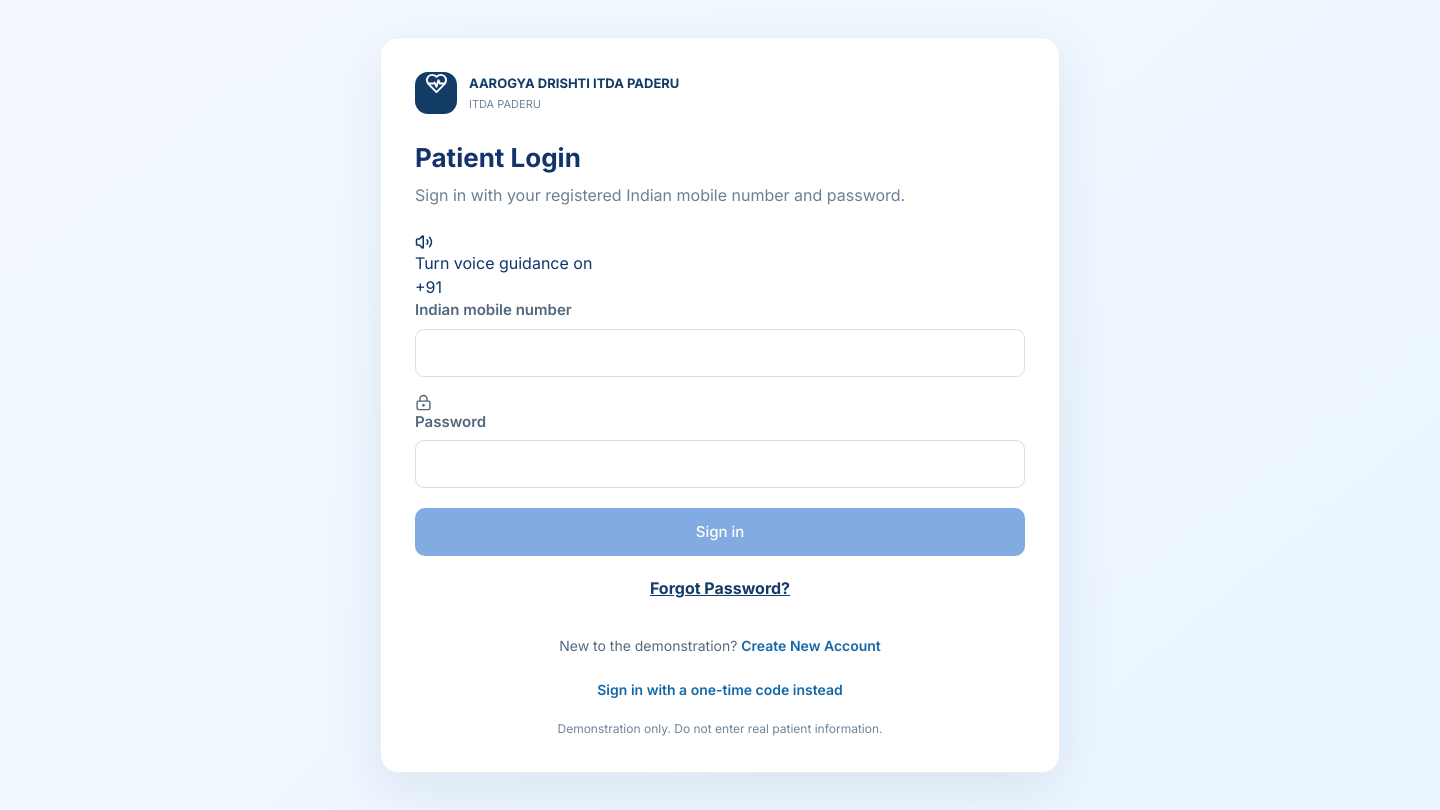
Scenario: patient password login › displays and copies the backend-generated demo code for password recovery
Click the button "Forgot Password?": point(720, 588) [638,564,802,612]
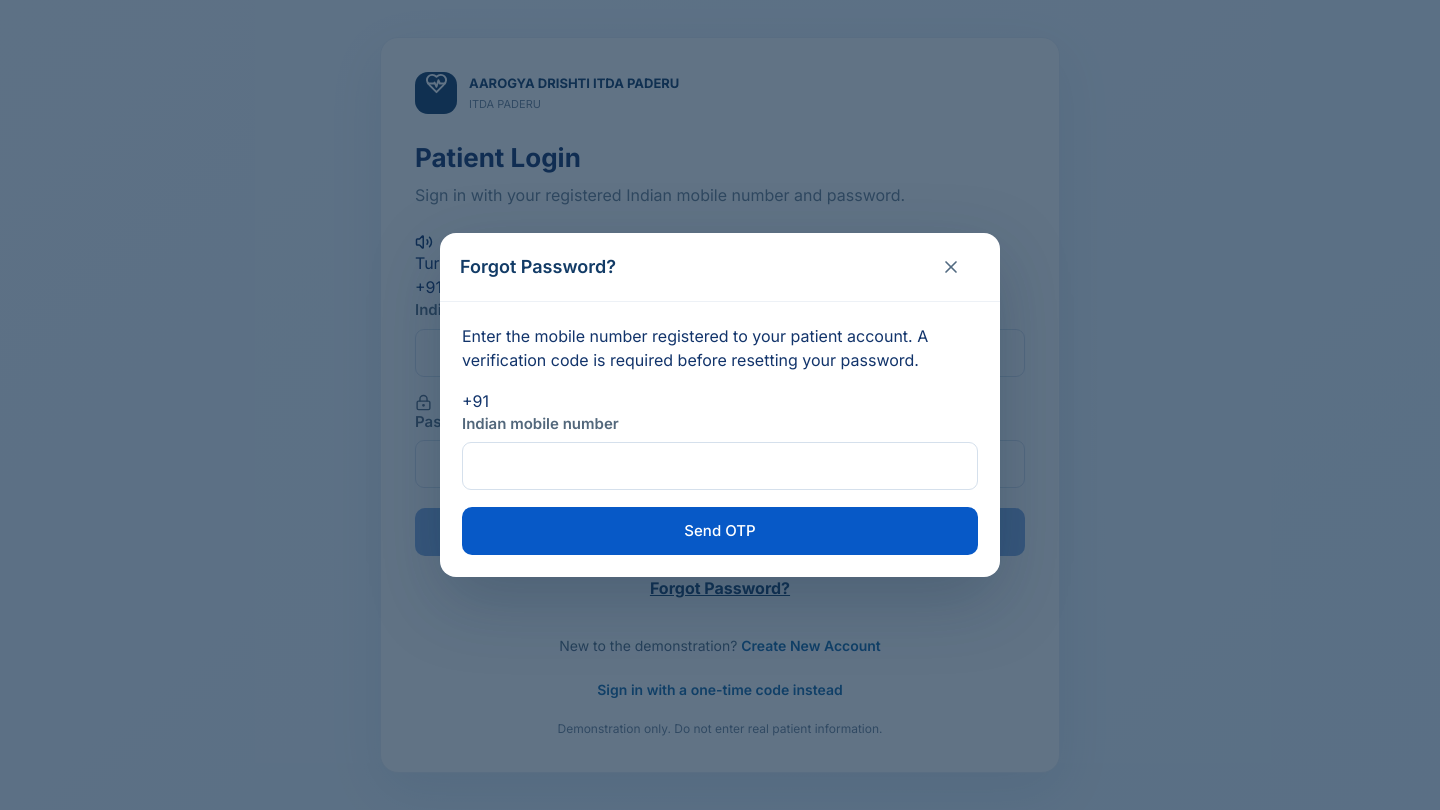
In the field labelled "Indian mobile number": point(720, 466) [462,442,978,490], type "9876543210"
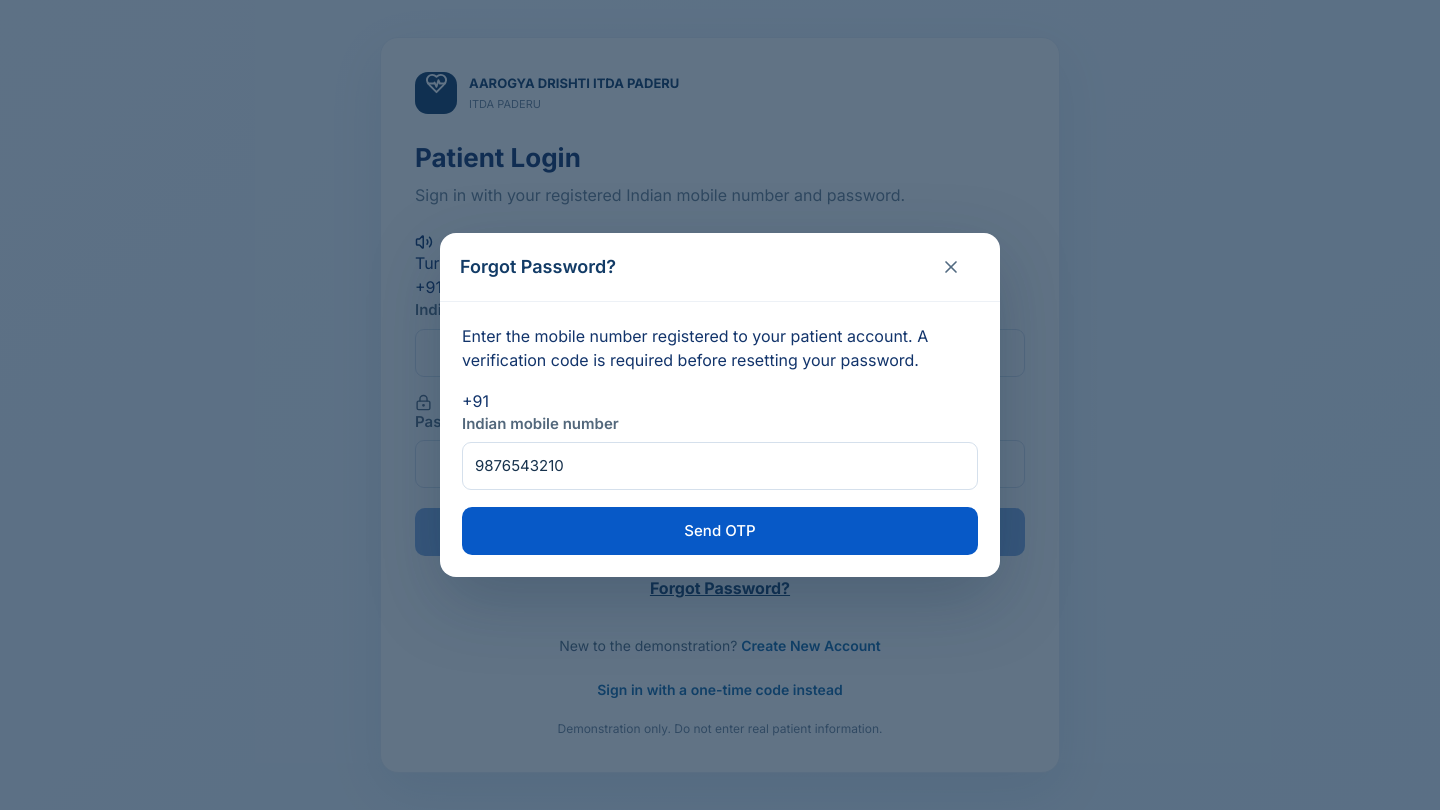
Click the button "Send OTP": point(720, 531) [462,507,978,555]
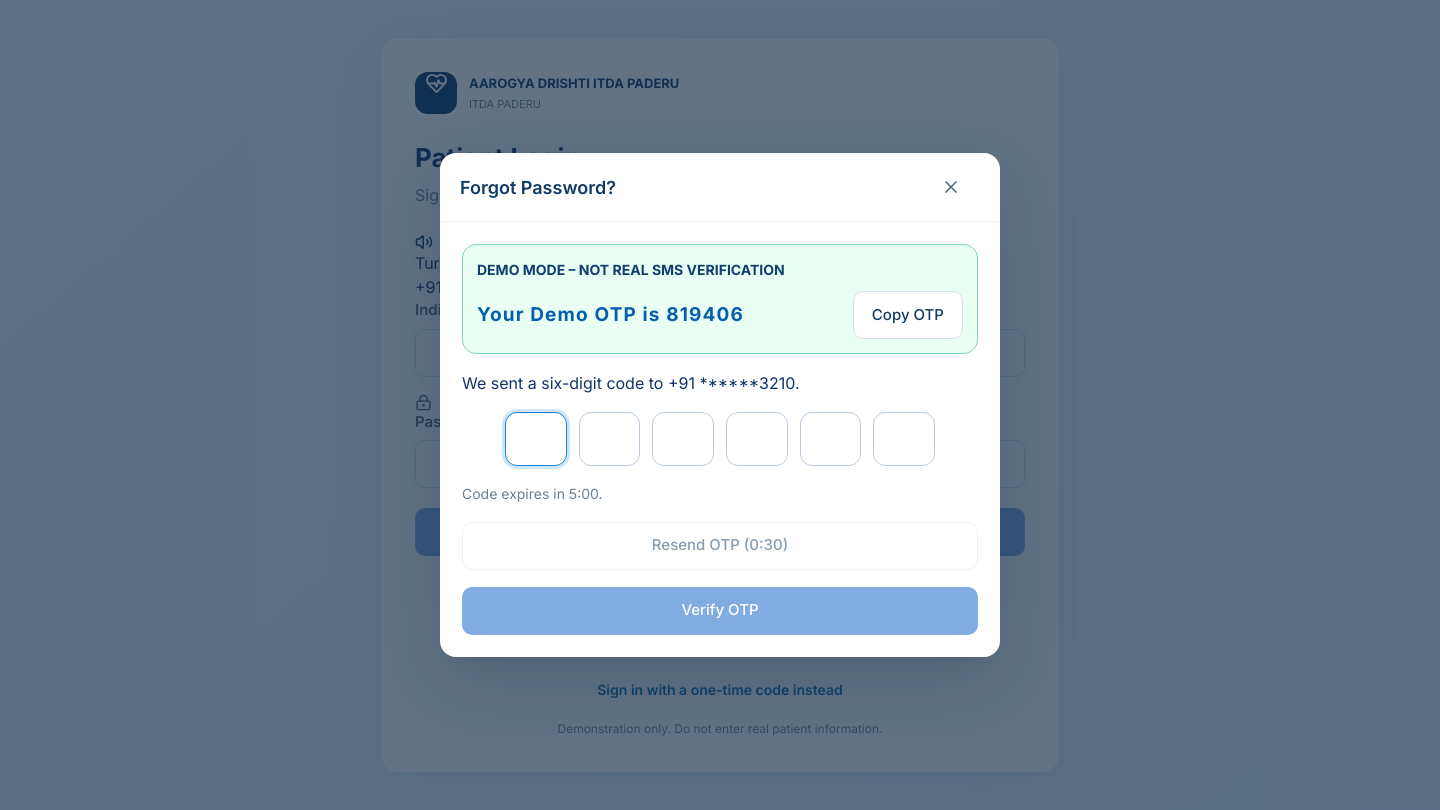
Expected: the text "Your Demo OTP is 819406" is shown, [477,300,744,330]
Click the button "Copy OTP": point(908, 315) [853,291,963,339]
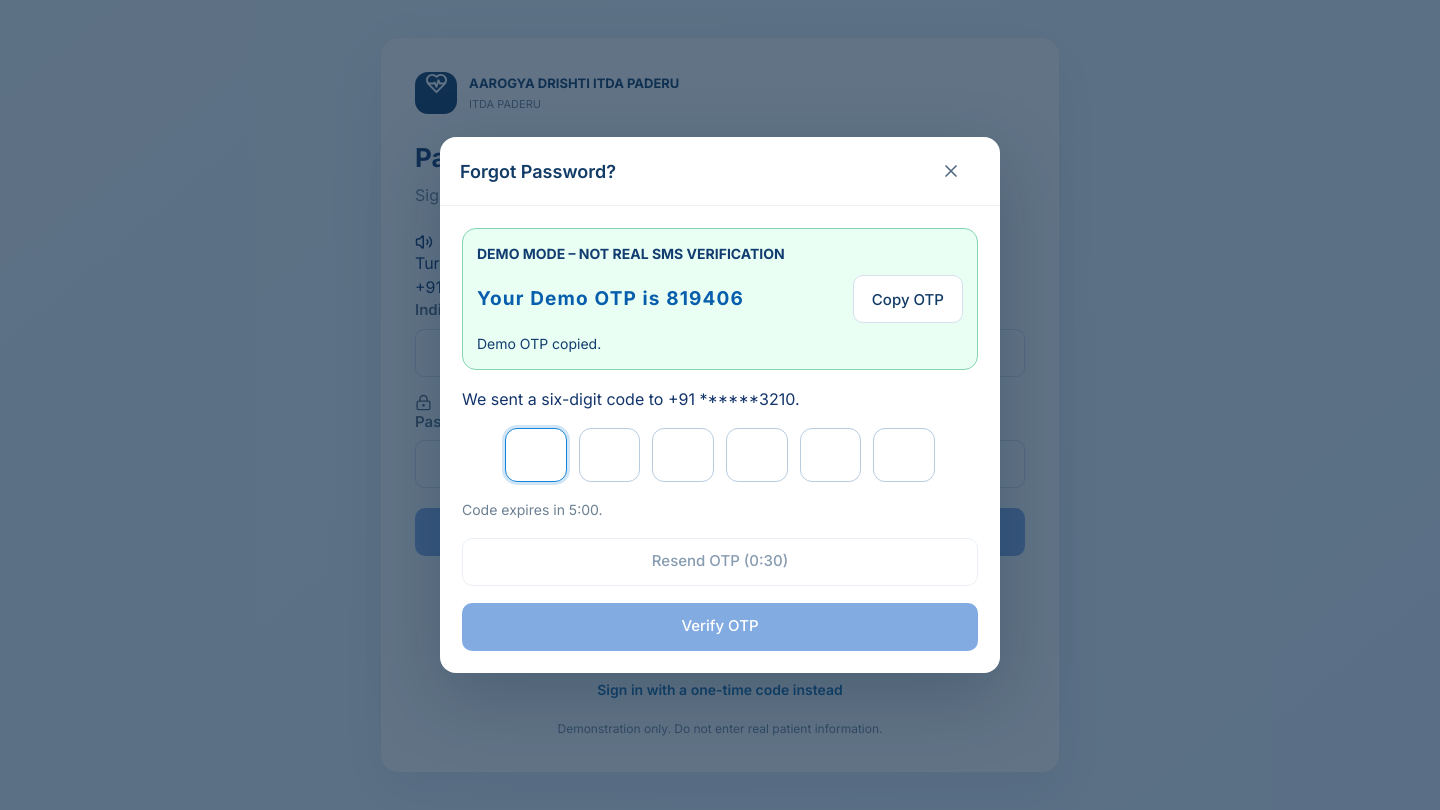
Expected: the text "Demo OTP copied." is shown, [477,335,601,352]
